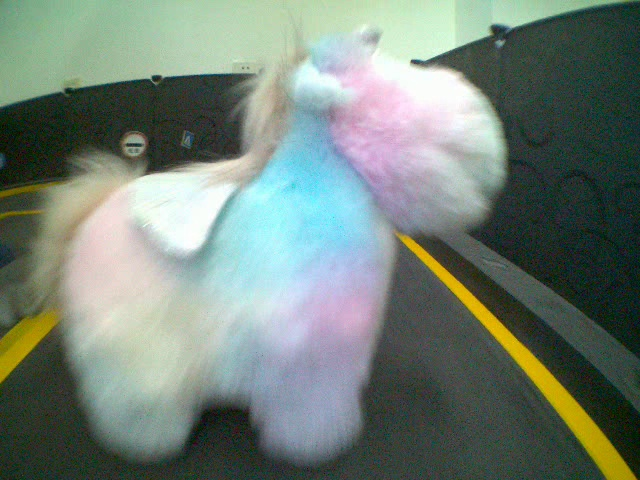unicorn: (21, 6, 511, 467)
